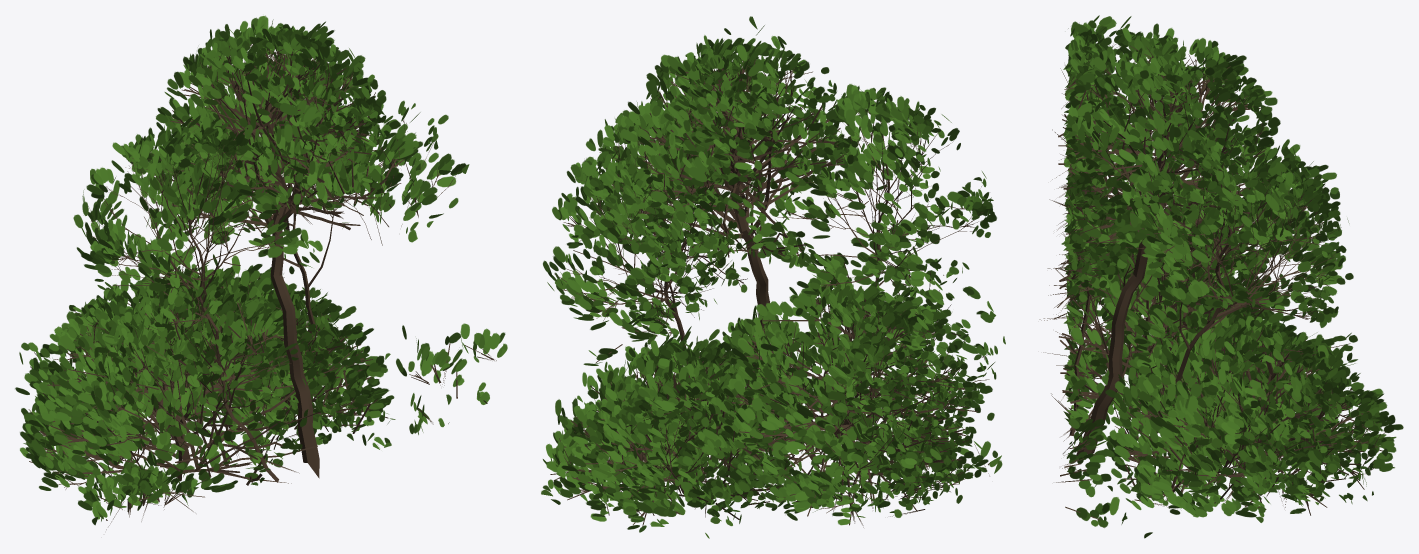
3 views of the same model, side by side, from view 1: azimuth 30°, elevation 25°; view 2: azimuth 150°, elevation 25°; view 3: azimuth 270°, elevation 25° (orthographic). The views are drawn at different scales.
Visible parts, largest first — view 1: oak 01.001_trunk_Mat.001_0.208; view 2: oak 01.001_trunk_Mat.001_0.208; view 3: oak 01.001_trunk_Mat.001_0.208.
Part boxes in pixels (x1,y1,x2,y2): oak 01.001_trunk_Mat.001_0.208: [15, 15, 507, 529]; oak 01.001_trunk_Mat.001_0.208: [541, 16, 1005, 538]; oak 01.001_trunk_Mat.001_0.208: [1039, 15, 1403, 538].
Size of the model in its own units: 3.21 by 3.15 by 2.35.
2 materials, 1 textured.
